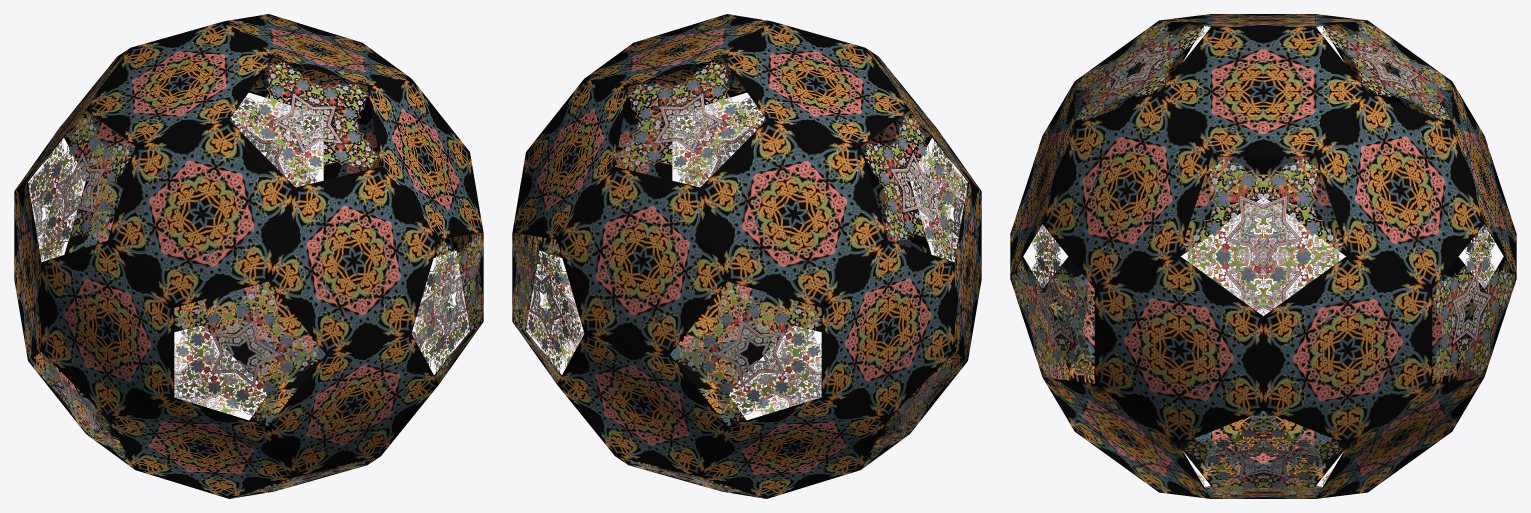
File: TruncatedIcosahedron.gltf
3 views of the same model, side by side, from view 1: azimuth 30°, elevation 25°; view 2: azimuth 150°, elevation 25°; view 3: azimuth 270°, elevation 25° (orthographic). The views are drawn at different scales.
Visible parts, largest first — view 1: TruncatedIcosahedron; view 2: TruncatedIcosahedron; view 3: TruncatedIcosahedron.
Boxes of the visible parts, <box> form: TruncatedIcosahedron: <box>14,14,483,498</box>; TruncatedIcosahedron: <box>512,14,981,498</box>; TruncatedIcosahedron: <box>1010,14,1516,498</box>.
Bounding box in the file's own units: 4.85 × 4.85 × 4.85.
2 materials, 2 textured.
